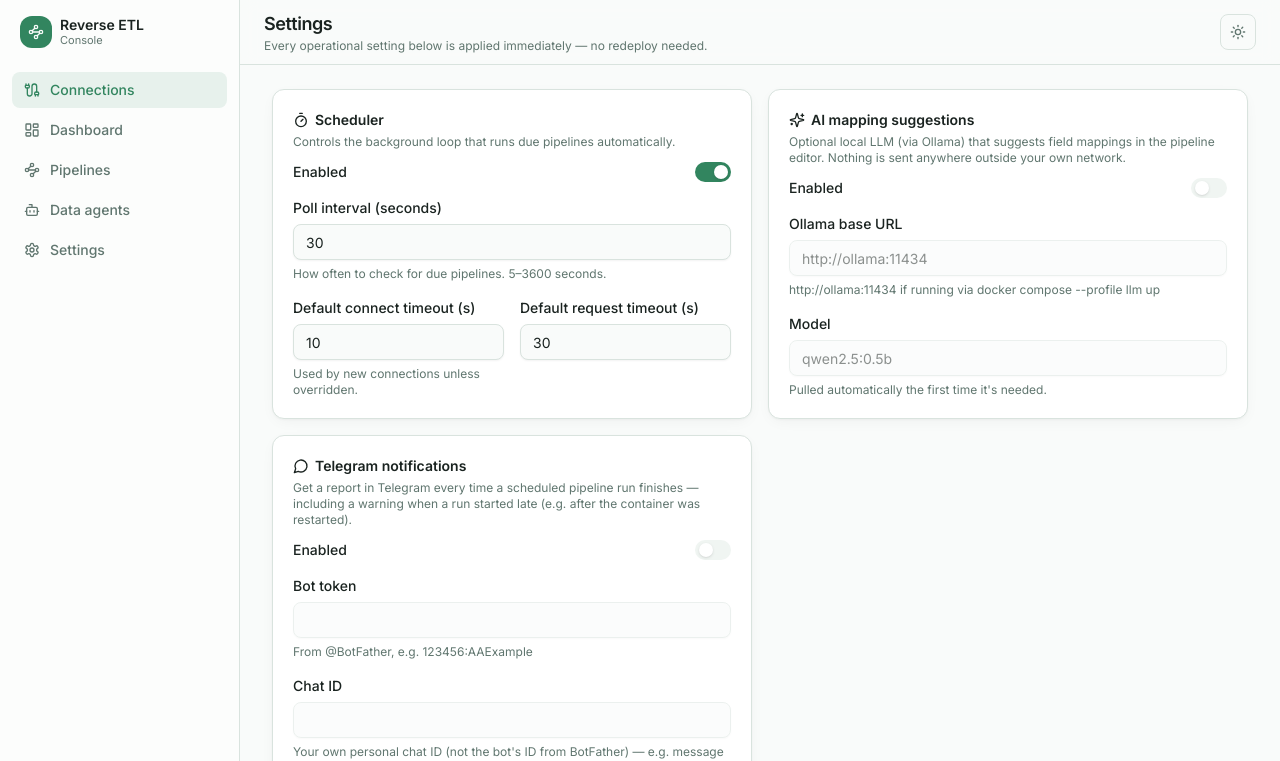
it: SettingsPage › enables the LLM fields when the AI switch is toggled on
Check: the number field labelled "Poll interval (seconds)" is shown, box [293,224,731,260]
Click the switch named "ai mapping suggestions enabled". click: [1209, 188]
box: [1191,178,1227,198]
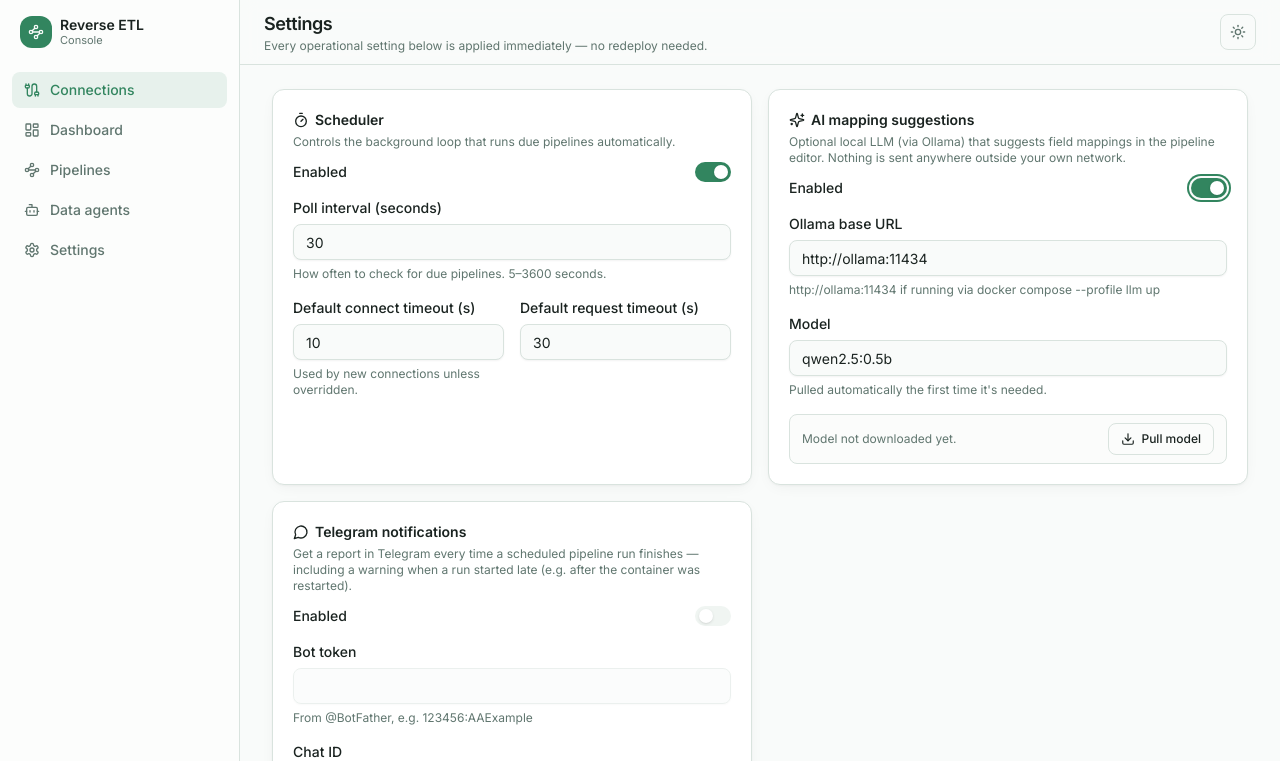
Check: the field labelled "Ollama base URL" is enabled, box [789,240,1227,276]
